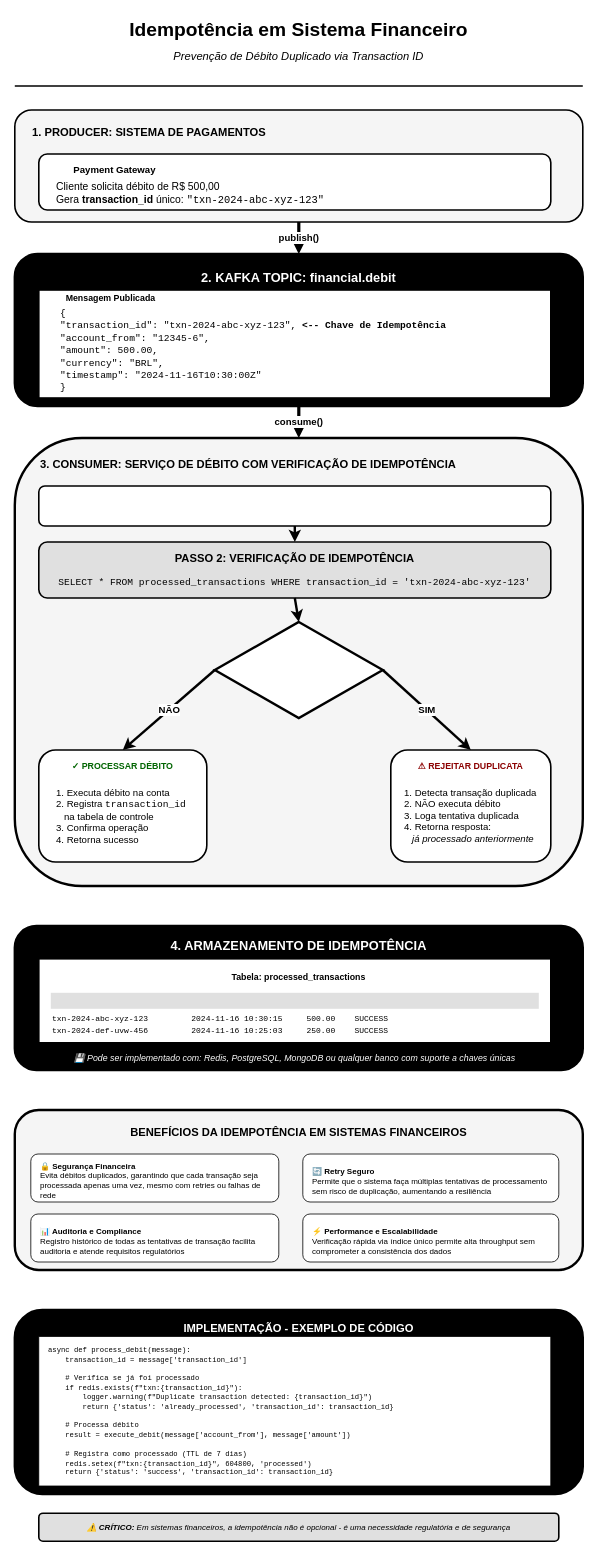
The diagram is 598 pixels wide and 1555 high, and some of its shapes have lost their labels. Each missing label, with the centre of its shape:
PASSO 1: Recebe mensagem com transaction_id = "txn-2024-abc-xyz-123": point (294, 505)
Transaction ID já processado?: point (298, 669)
transaction_id processed_at amount status: point (294, 1000)
